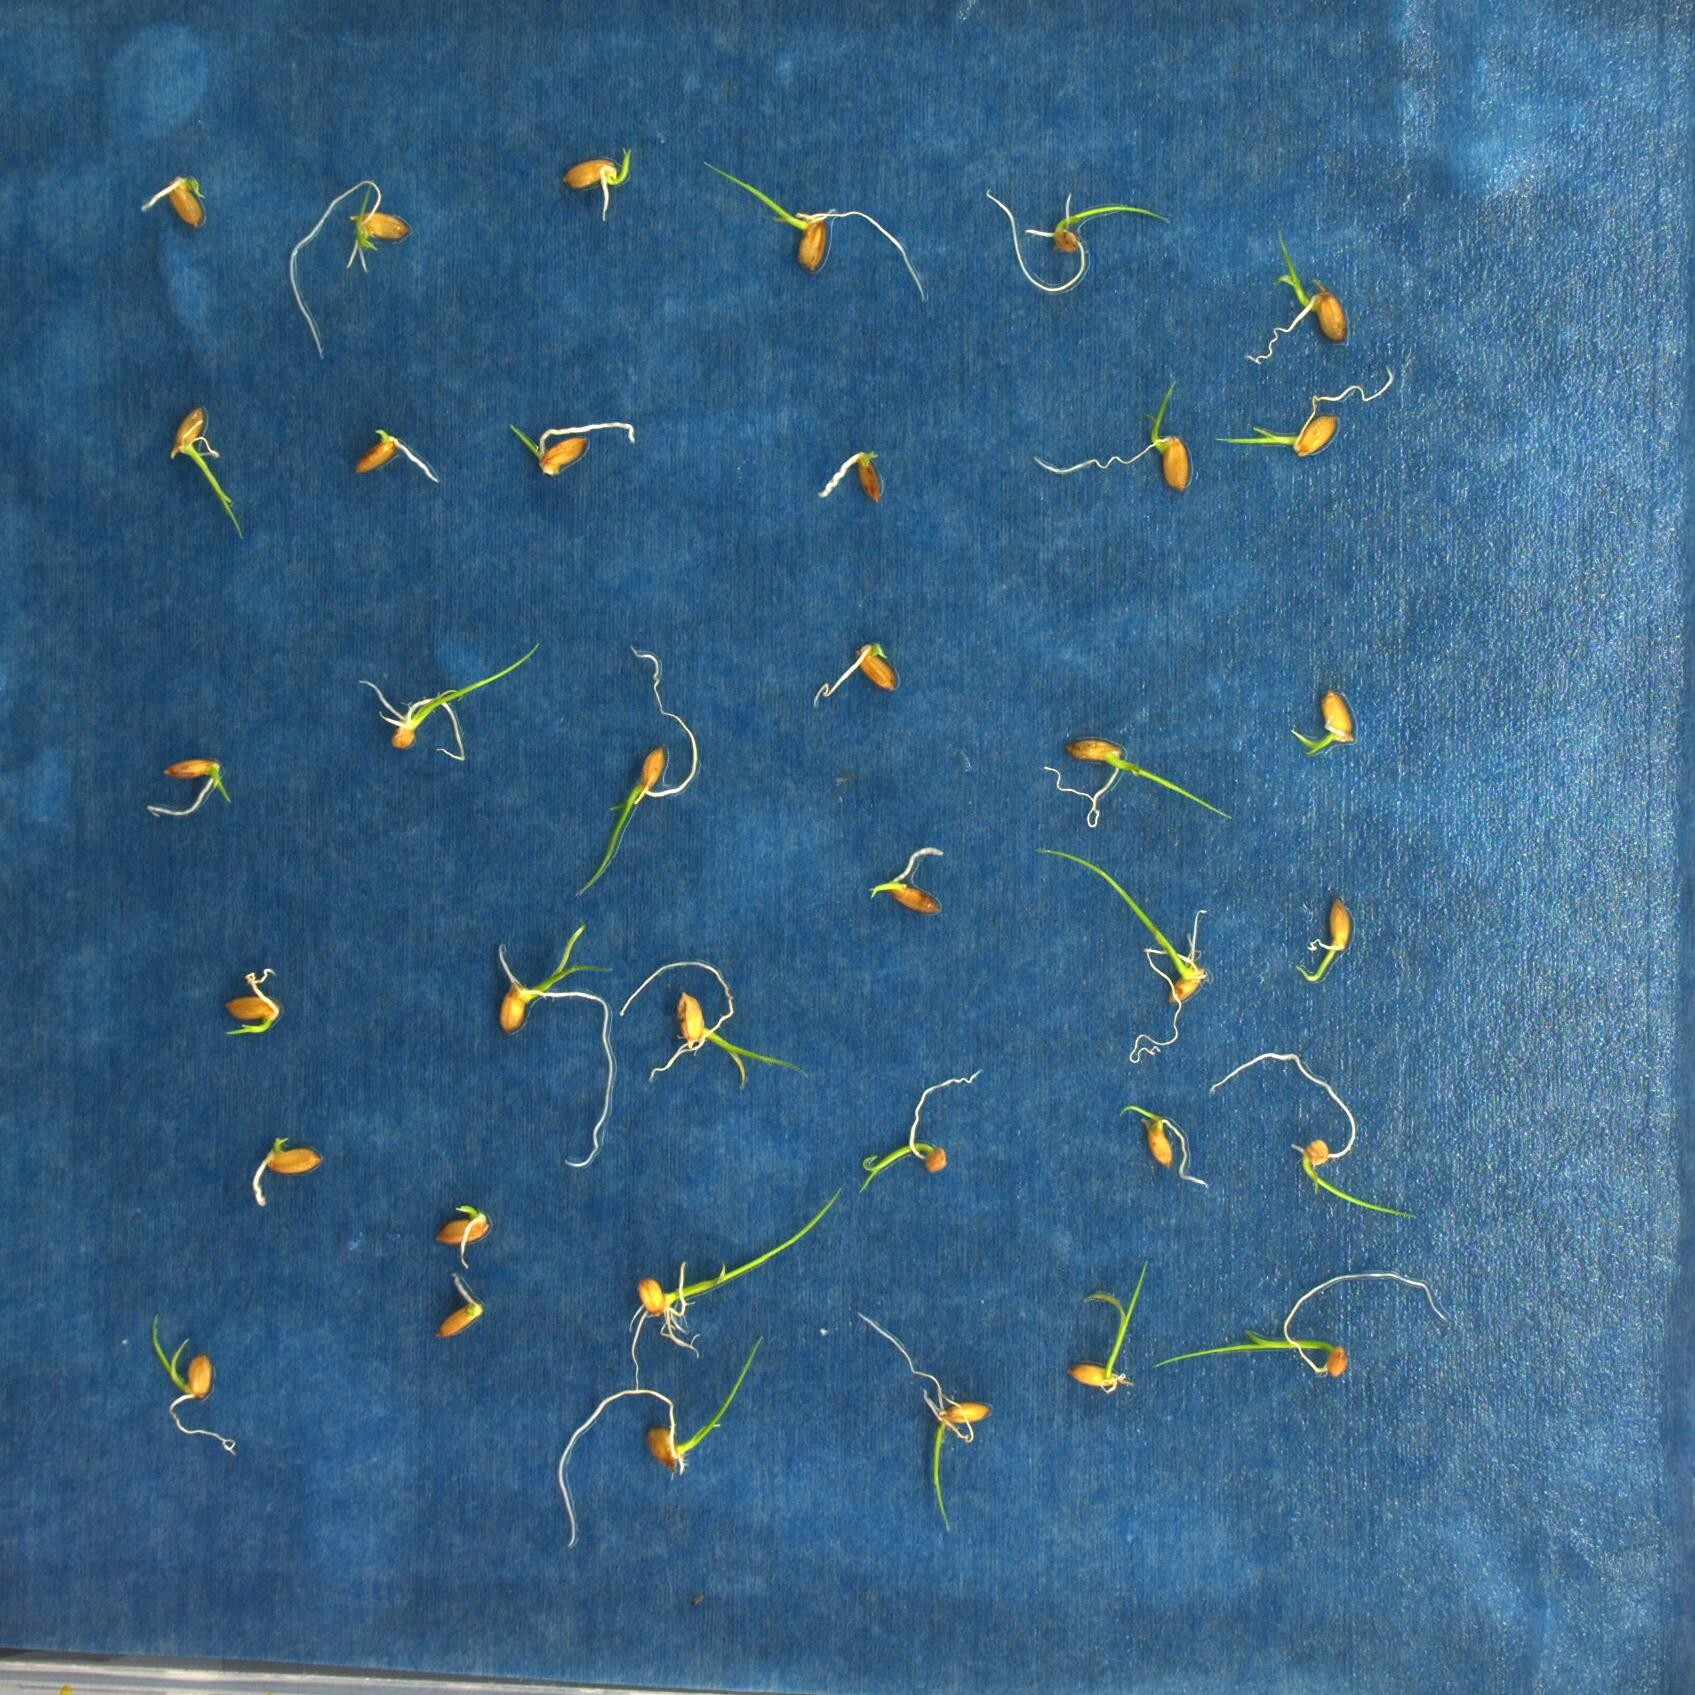not sprout: (349, 425, 439, 487), (248, 1135, 321, 1208), (810, 445, 885, 506), (435, 1271, 484, 1340)
sprout: (553, 1333, 767, 1548), (626, 1184, 844, 1391), (1034, 843, 1208, 1065), (1208, 1049, 1420, 1218), (700, 158, 930, 303), (576, 643, 702, 896), (1149, 1271, 1450, 1375), (855, 1307, 986, 1535), (494, 922, 608, 1170), (618, 958, 810, 1090), (352, 640, 542, 764), (289, 180, 410, 360), (983, 183, 1173, 290), (1029, 374, 1191, 490), (1212, 362, 1394, 461), (1040, 739, 1237, 827), (858, 1066, 984, 1191), (1243, 227, 1349, 360), (147, 1313, 239, 1458), (1066, 1260, 1152, 1399), (168, 407, 248, 543), (504, 419, 638, 478), (1118, 1104, 1208, 1189), (141, 757, 236, 818), (868, 846, 944, 920), (813, 640, 896, 705), (560, 147, 633, 220), (422, 1201, 498, 1270), (1296, 900, 1354, 983), (1288, 688, 1354, 759), (222, 965, 279, 1038), (135, 172, 206, 230)
